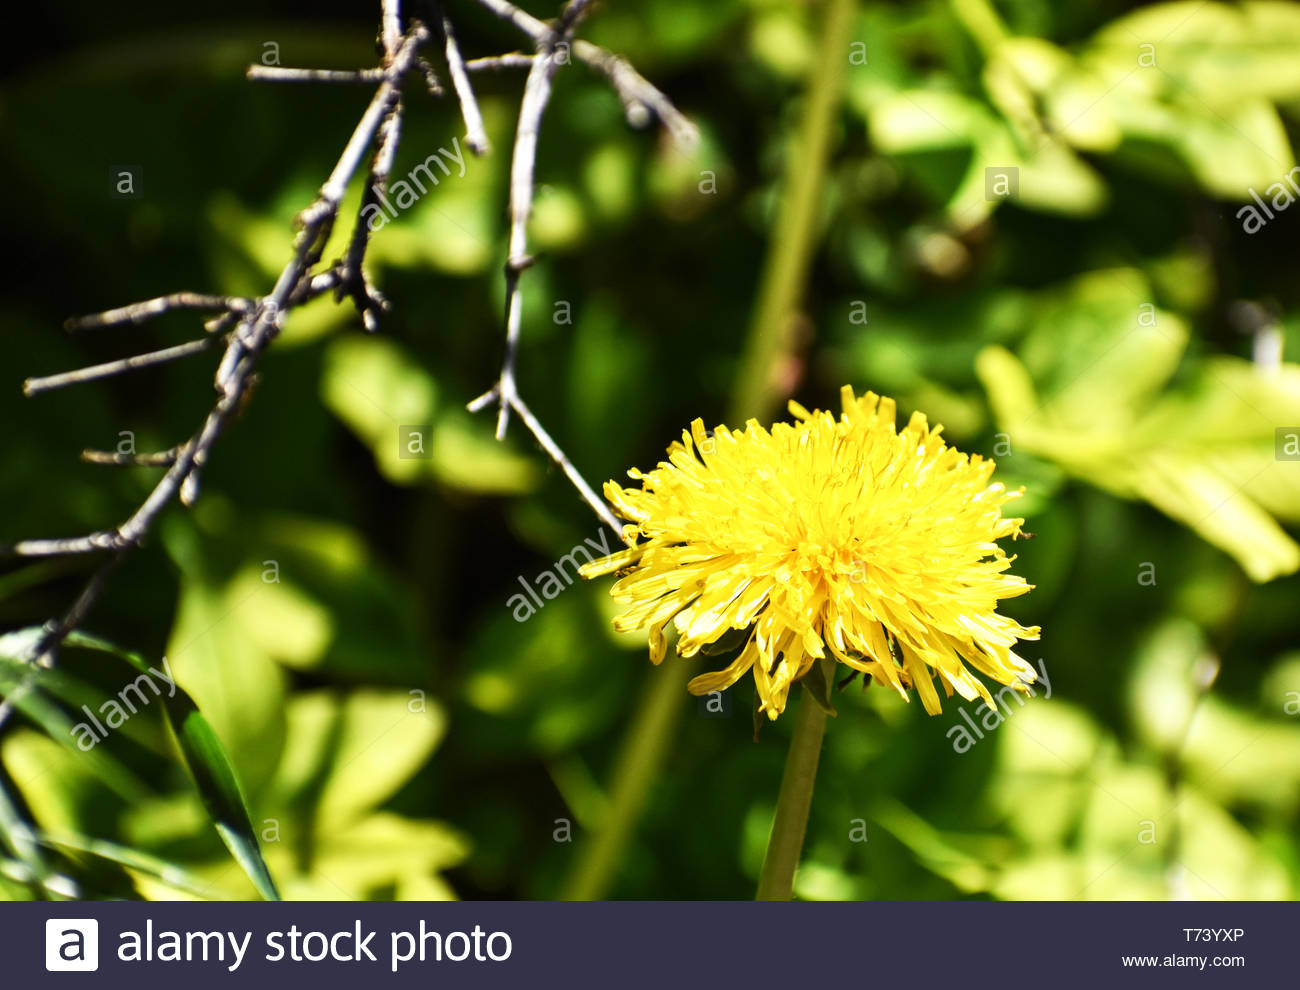dandelion: (614, 377, 1047, 715)
